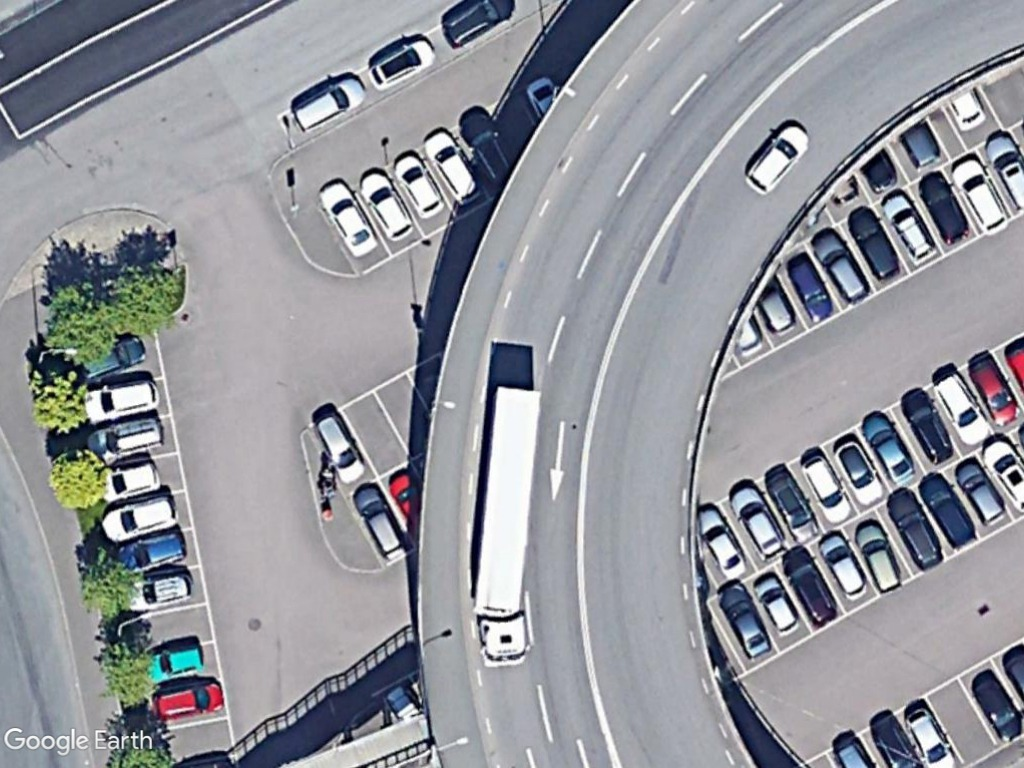car: (345, 475, 414, 564), (738, 118, 811, 202), (708, 576, 780, 661), (418, 124, 489, 210), (945, 151, 1013, 240), (286, 68, 372, 138), (315, 176, 382, 265), (927, 365, 996, 451), (897, 381, 960, 474), (352, 161, 420, 247), (882, 484, 946, 574), (96, 488, 182, 554), (916, 468, 982, 553), (78, 368, 174, 426), (780, 543, 837, 637), (691, 495, 751, 584), (306, 409, 371, 491), (807, 227, 874, 306), (758, 461, 821, 544), (844, 202, 906, 286), (794, 448, 859, 528), (365, 31, 446, 94), (728, 478, 790, 560), (882, 187, 943, 270), (826, 434, 890, 512), (968, 348, 1024, 435), (847, 514, 906, 593), (143, 674, 225, 730), (860, 408, 916, 487), (390, 150, 450, 223), (919, 164, 972, 246), (750, 567, 803, 646), (785, 252, 840, 328), (818, 525, 870, 603), (949, 454, 1003, 528), (117, 568, 197, 616), (90, 454, 162, 507), (137, 634, 210, 684)
longvehicle: (457, 381, 549, 674)
